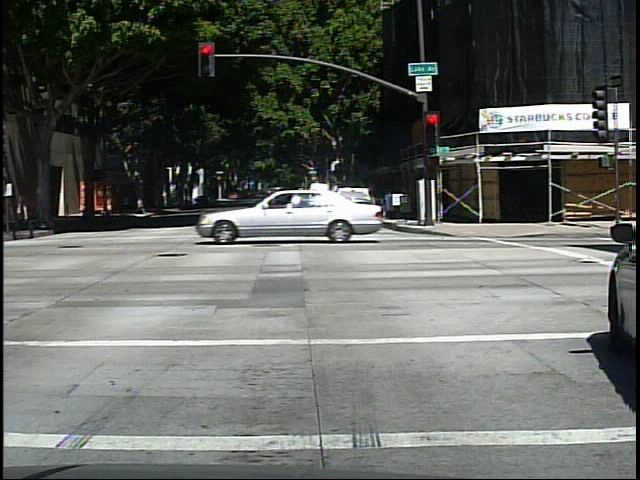person: (12, 189, 41, 242)
